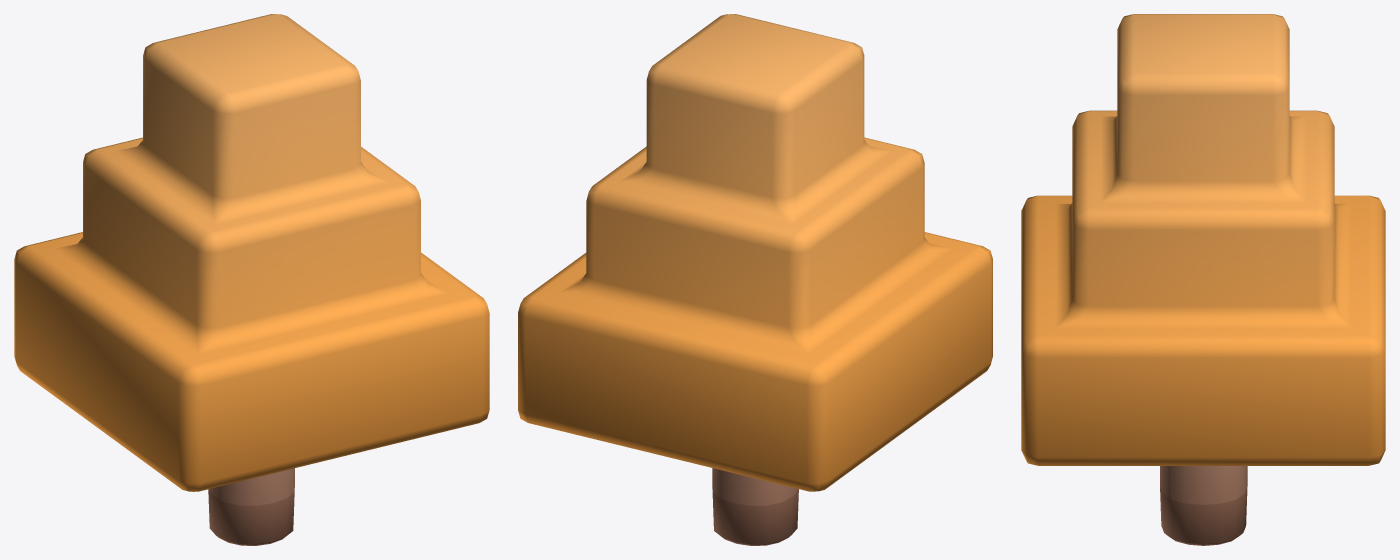
Rendered from tree_10.fbx.
3 renders of one model, left to right at view 1: azimuth 30°, elevation 25°; view 2: azimuth 150°, elevation 25°; view 3: azimuth 270°, elevation 25°, orthographic.
Parts seen in each view (by area): view 1: tree_10; view 2: tree_10; view 3: tree_10.
Part boxes in pixels (x1,y1,x2,y2): tree_10: (14,14,489,545); tree_10: (518,14,992,545); tree_10: (1021,14,1385,545).
Bounding box in the file's own units: 160 × 237 × 160.
